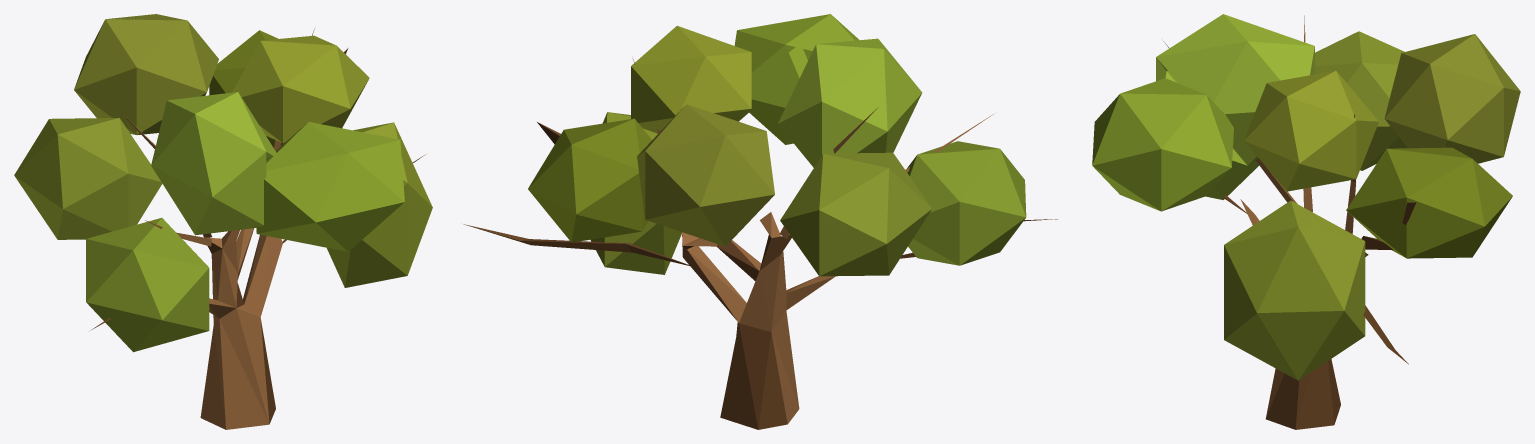
Rendered from apple_bloom_far.glb.
The picture shows the model from 3 angles, left to right: view 1: azimuth 30°, elevation 25°; view 2: azimuth 150°, elevation 25°; view 3: azimuth 270°, elevation 25°; orthographic projection. The views are drawn at different scales.
Visible parts, largest first — view 1: apple_bloom_far; view 2: apple_bloom_far; view 3: apple_bloom_far.
Boxes of the visible parts, x1=… form: apple_bloom_far: x1=14, y1=14, x2=432, y2=429; apple_bloom_far: x1=463, y1=14, x2=1057, y2=429; apple_bloom_far: x1=1092, y1=14, x2=1520, y2=429.
Size of the model in its own units: 7.84 by 5.66 by 6.08.
